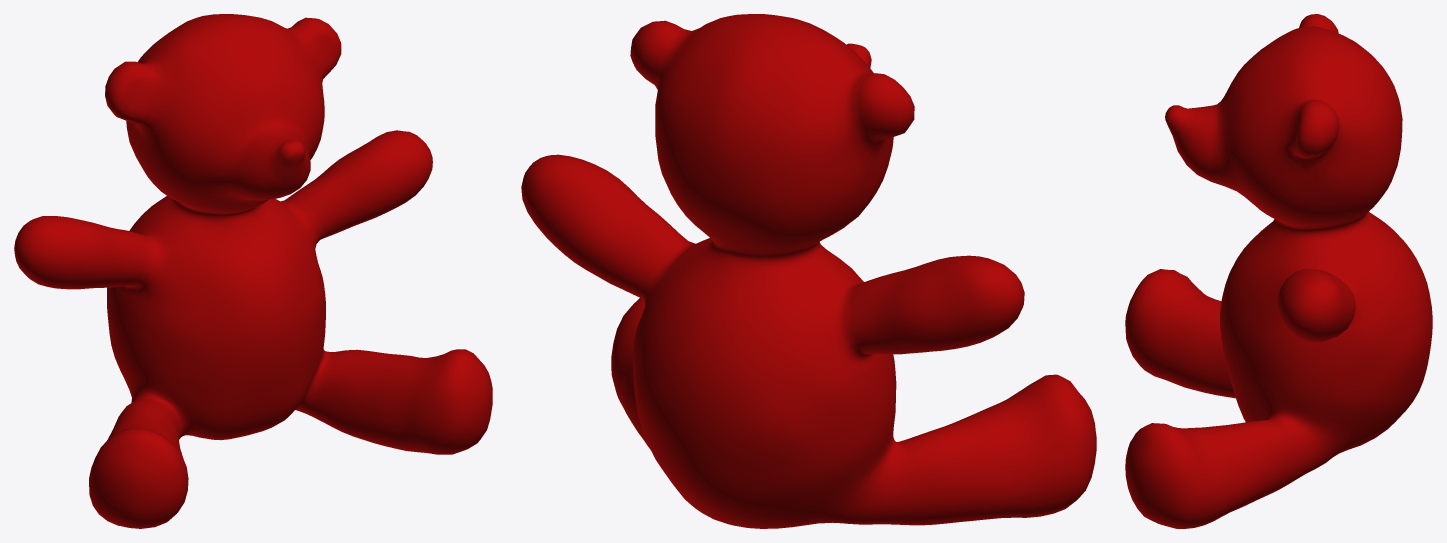
Rendered from osito.glb.
3 views of the same model, side by side, from view 1: azimuth 30°, elevation 25°; view 2: azimuth 150°, elevation 25°; view 3: azimuth 270°, elevation 25° (orthographic). The views are drawn at different scales.
Parts seen in each view (by area): view 1: Oso_Base02:Group42068; view 2: Oso_Base02:Group42068; view 3: Oso_Base02:Group42068.
Boxes of the visible parts, x1=… form: Oso_Base02:Group42068: x1=14, y1=14, x2=492, y2=528; Oso_Base02:Group42068: x1=521, y1=14, x2=1096, y2=528; Oso_Base02:Group42068: x1=1125, y1=14, x2=1432, y2=528.
Bounding box in the file's own units: 2.53 × 2.44 × 1.66.
